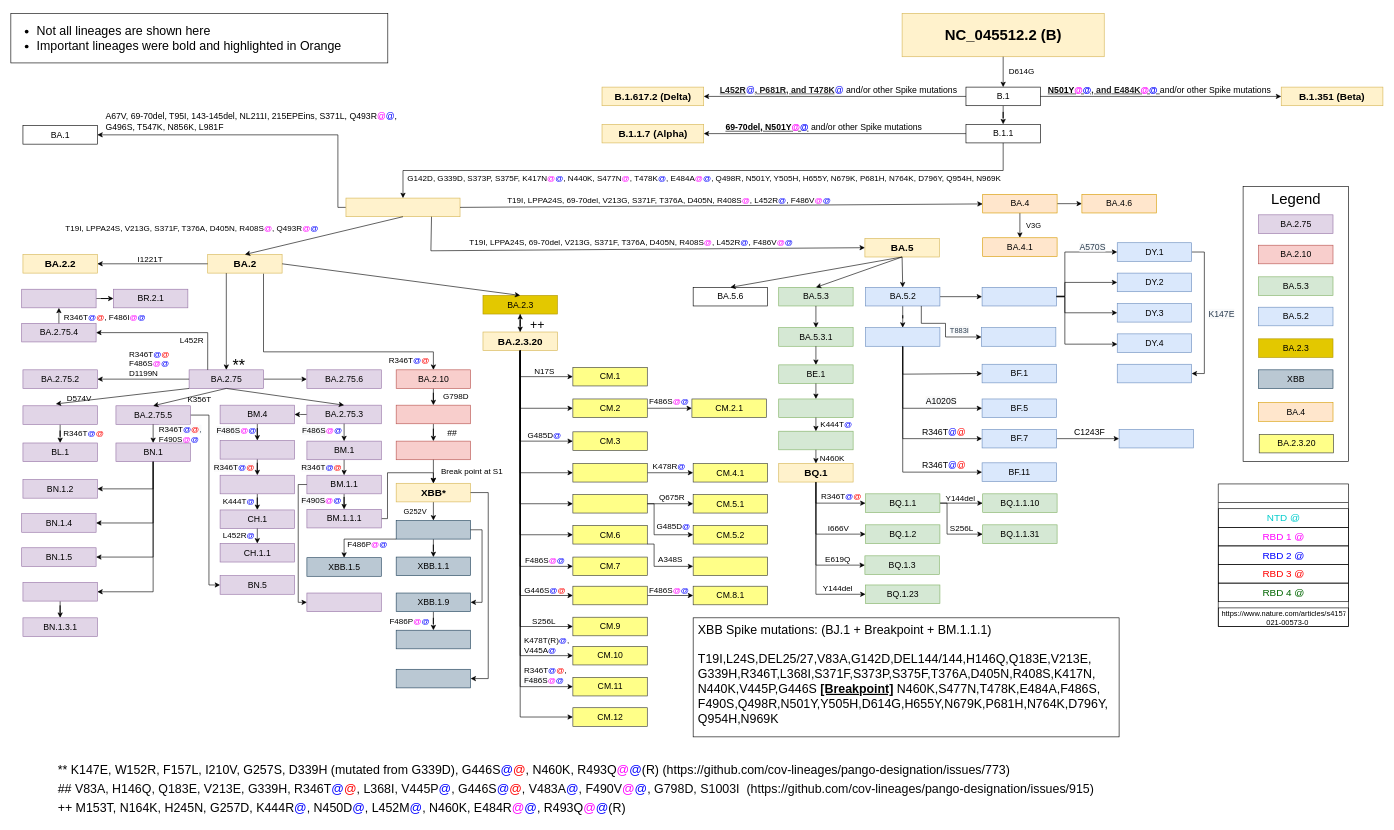
Some shapes in this 1394 by 830 pixel diagram are drawn without their labels. Here are the shapes that lost their labels. From the top down, the box of each, then its label:
(345, 197, 460, 217): B.1.1.529 (Omicron)
(21, 289, 96, 308): BR.2
(981, 287, 1056, 306): BA.5.2.48
(865, 327, 940, 346): BA.5.2.1
(981, 327, 1056, 346): BA.5.2.49
(1117, 364, 1192, 383): DY.1.1
(22, 405, 97, 424): BA.2.75.1
(396, 405, 471, 424): BA.2.10.1
(778, 398, 853, 418): BE.1.1
(219, 440, 294, 459): BM.4.1
(396, 441, 471, 460): BJ.1
(778, 431, 853, 450): BE.1.1.1
(1118, 429, 1194, 448): BF.7.14
(219, 475, 294, 494): BM.4.1.1
(572, 463, 647, 482): CM.4
(572, 494, 647, 513): CM.5
(396, 520, 471, 539): XBB.1
(693, 556, 768, 576): CM.6.1
(1218, 483, 1348, 627): Nab classes
(22, 582, 97, 601): BN.1.3
(306, 592, 381, 612): BM.1.1.3
(572, 586, 647, 605): CM.8
(396, 630, 471, 649): XBB.1.9.1
(396, 669, 471, 688): XBB.3
